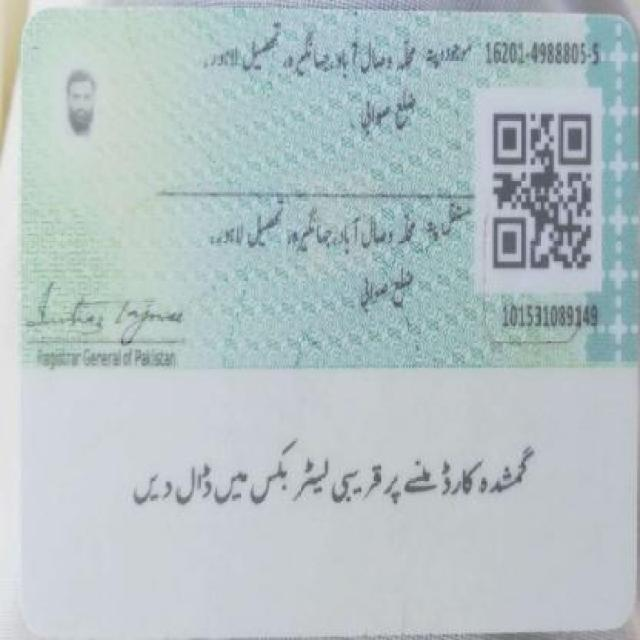Back: (9, 6, 628, 625)
